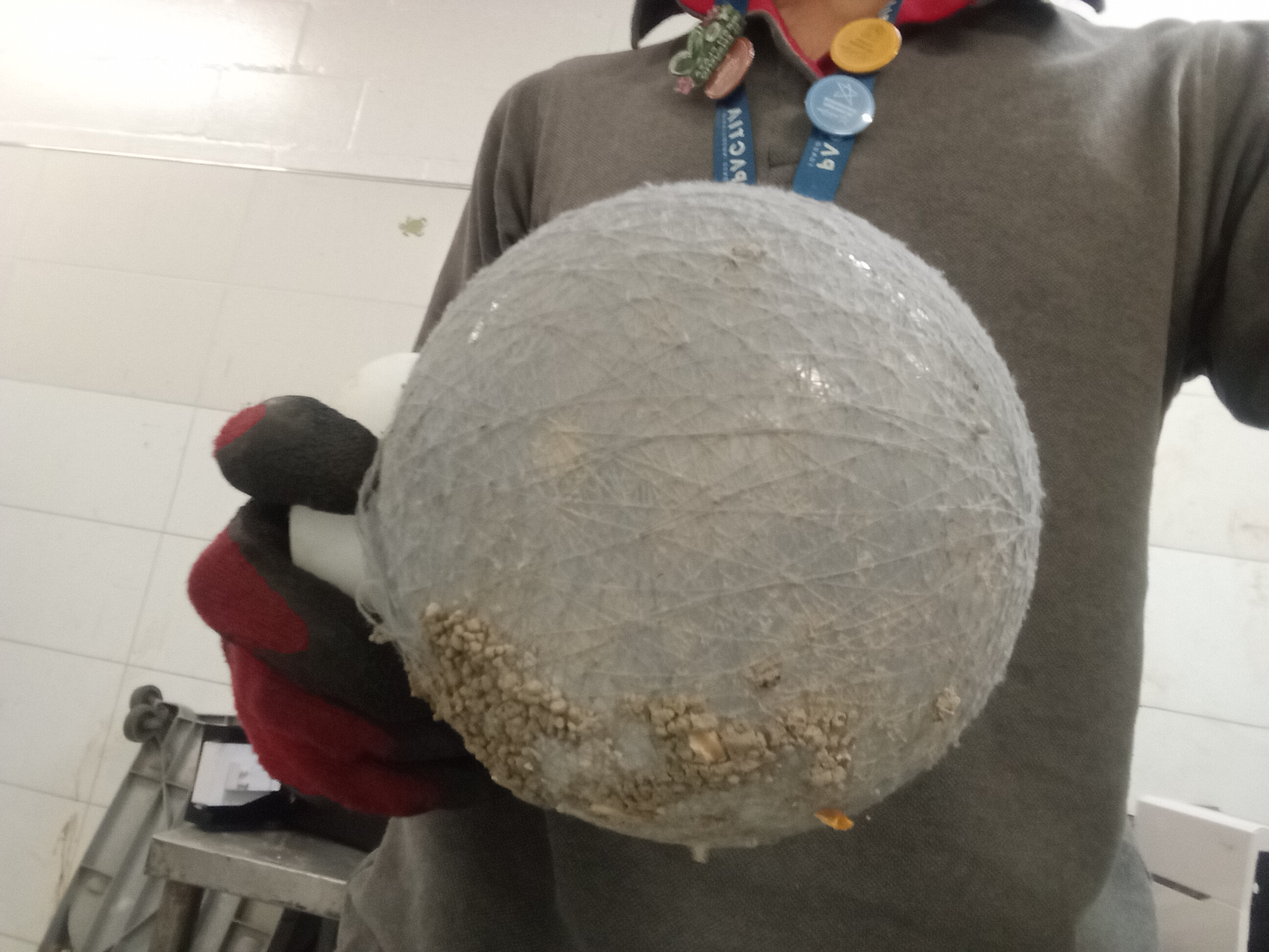Ordinario: (289, 182, 1046, 848)
